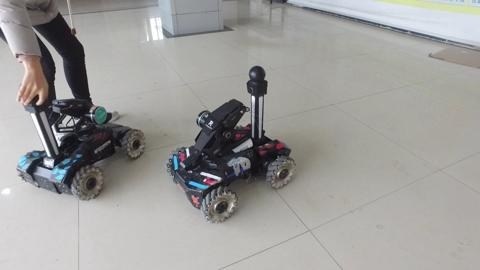chariot: (161, 61, 305, 227), (15, 91, 154, 198)
